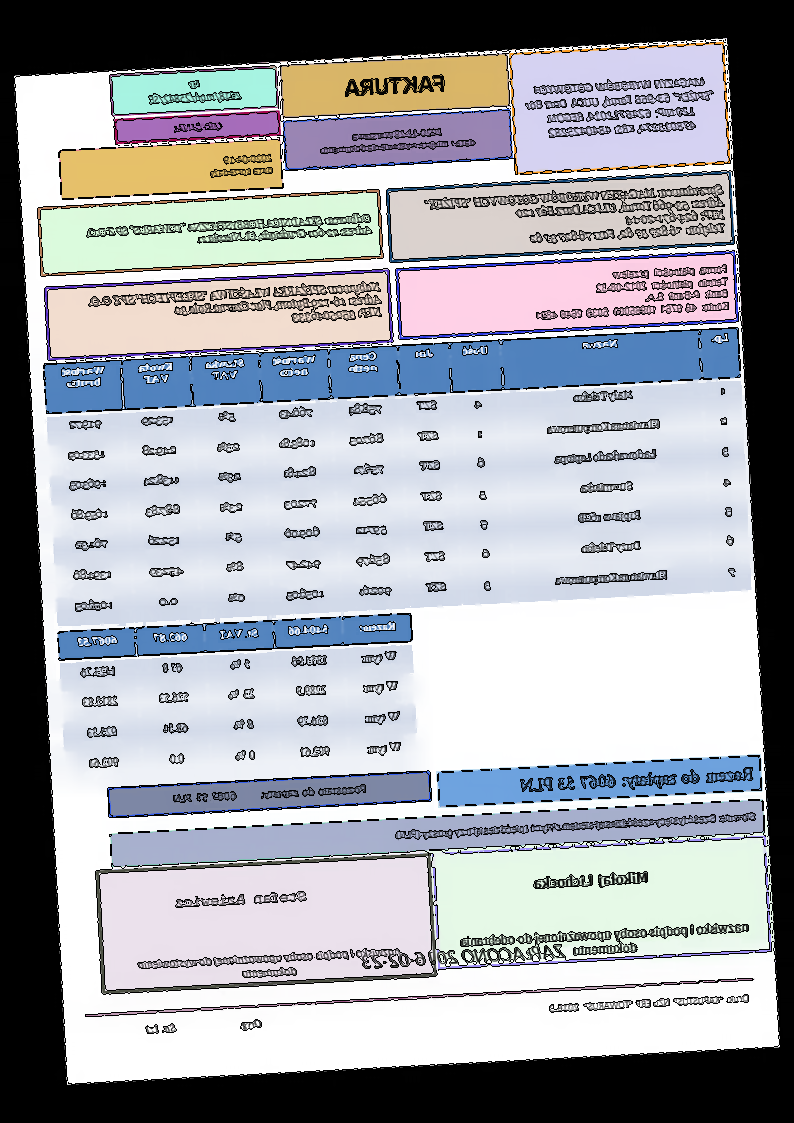Table: (41, 325, 754, 629), (57, 612, 421, 784)
TextBox: (421, 178, 728, 254), (85, 276, 384, 337), (522, 72, 718, 142), (395, 807, 758, 843), (531, 261, 732, 323), (86, 209, 375, 252), (461, 921, 753, 963), (136, 942, 402, 986), (517, 762, 758, 798), (356, 941, 566, 976), (317, 122, 479, 159), (547, 989, 753, 1016), (171, 782, 369, 807), (173, 887, 309, 912), (530, 865, 651, 893), (147, 75, 244, 109), (341, 73, 448, 100), (142, 1015, 265, 1036), (207, 149, 277, 184), (171, 118, 225, 137)
